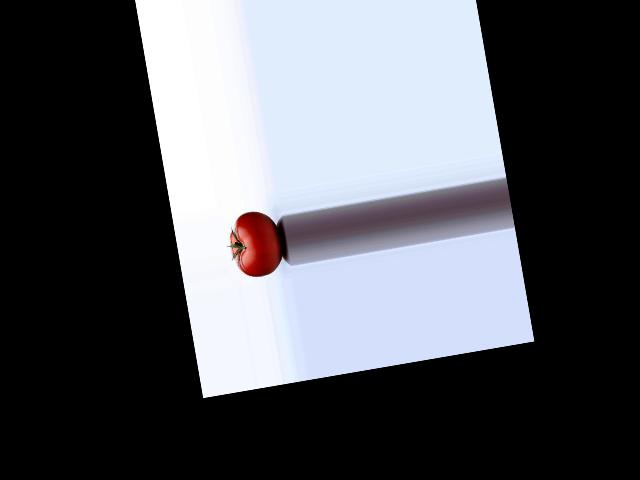tomato: (225, 207, 286, 280)
